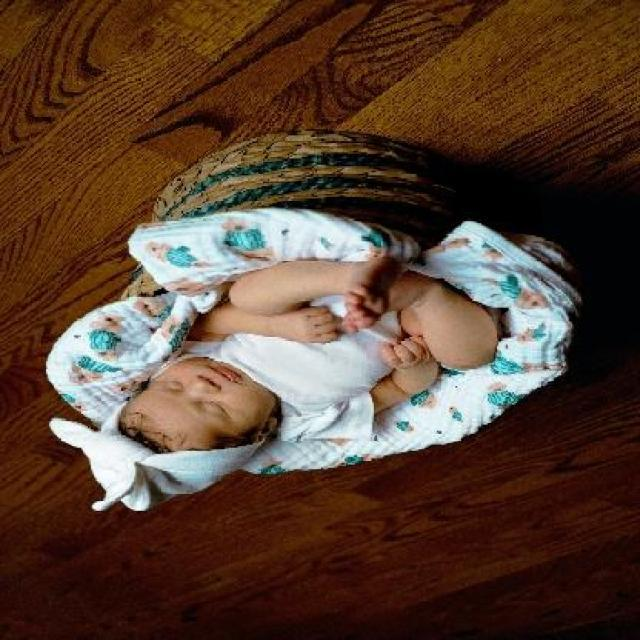baby: (76, 250, 498, 516)
